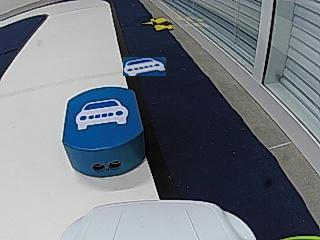safety: (74, 99, 130, 129)
